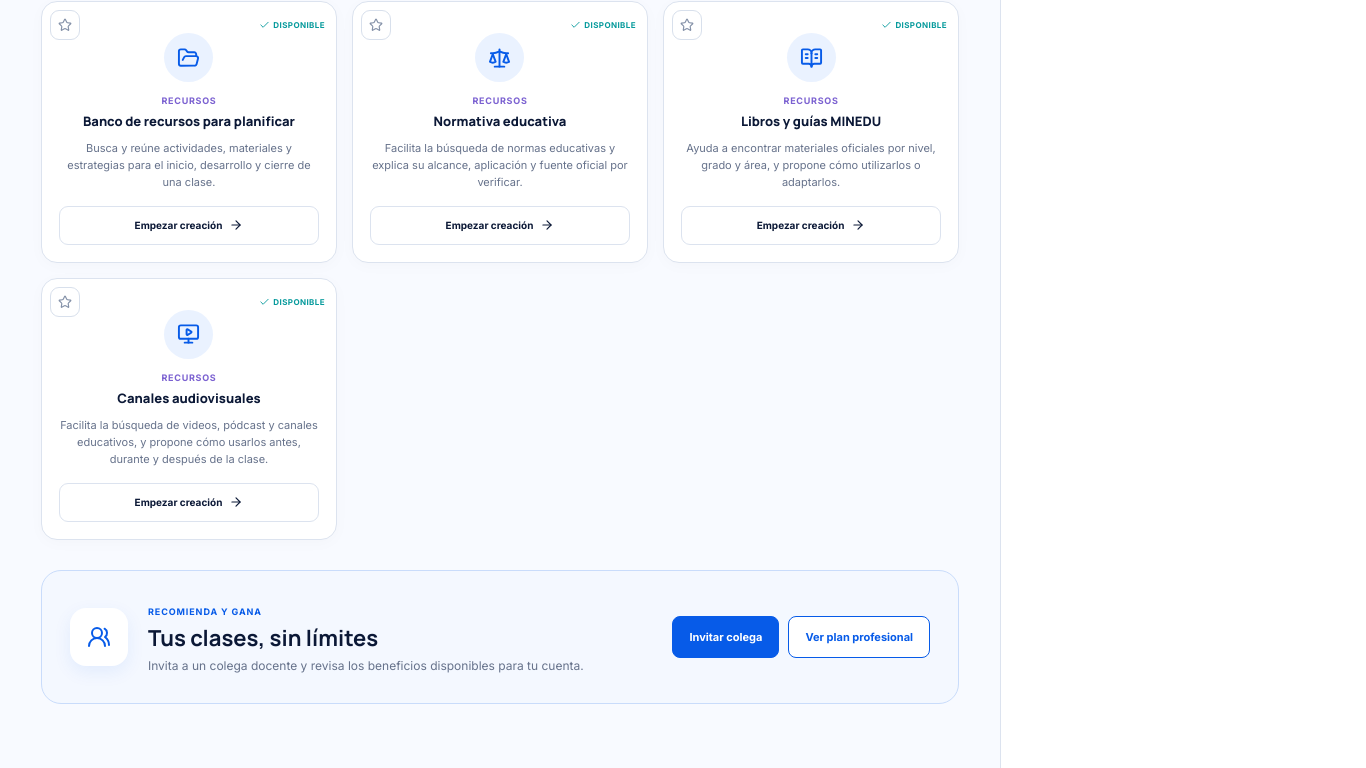
Test: DashboardPage › opens the professional plan summary
This screenshot has width=1366, height=768.
(page scrolled)
What coordinates should you click on to do the following:
click the button "Ver plan profesional"
I would click on:
 (859, 637)
Its box is x1=788 y1=616 x2=930 y2=658.
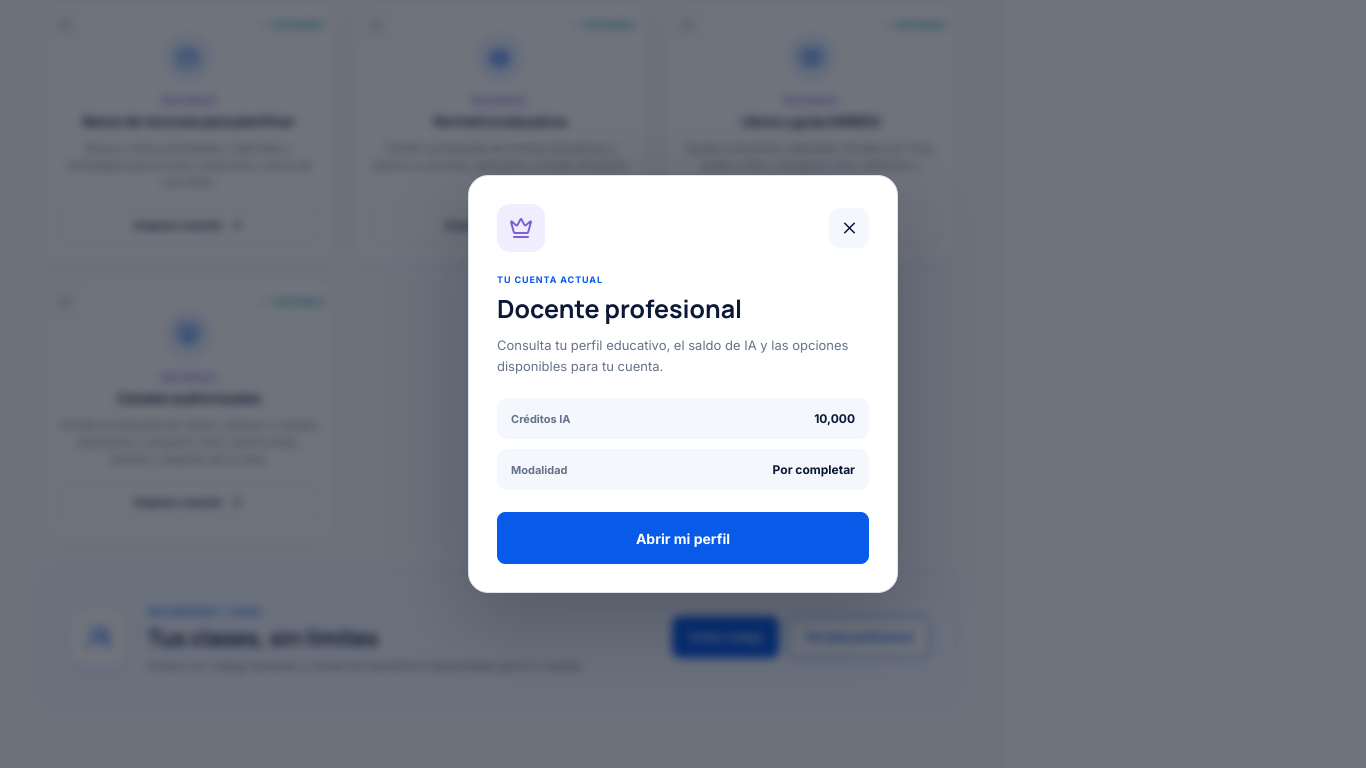
expect the dialog "Docente profesional" is shown: met
expect the button "Abrir mi perfil" is shown: met, box x1=497 y1=512 x2=869 y2=564
